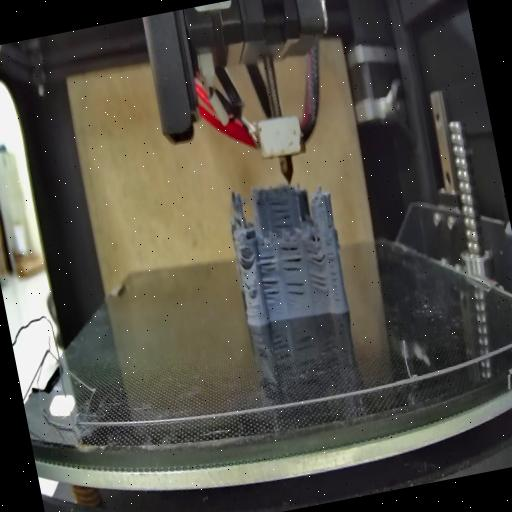cracks: (276, 244, 309, 302), (255, 252, 284, 306), (324, 244, 344, 304), (268, 191, 294, 233), (308, 268, 330, 296), (304, 244, 326, 270), (236, 247, 253, 269), (324, 216, 334, 236), (242, 278, 252, 294)
